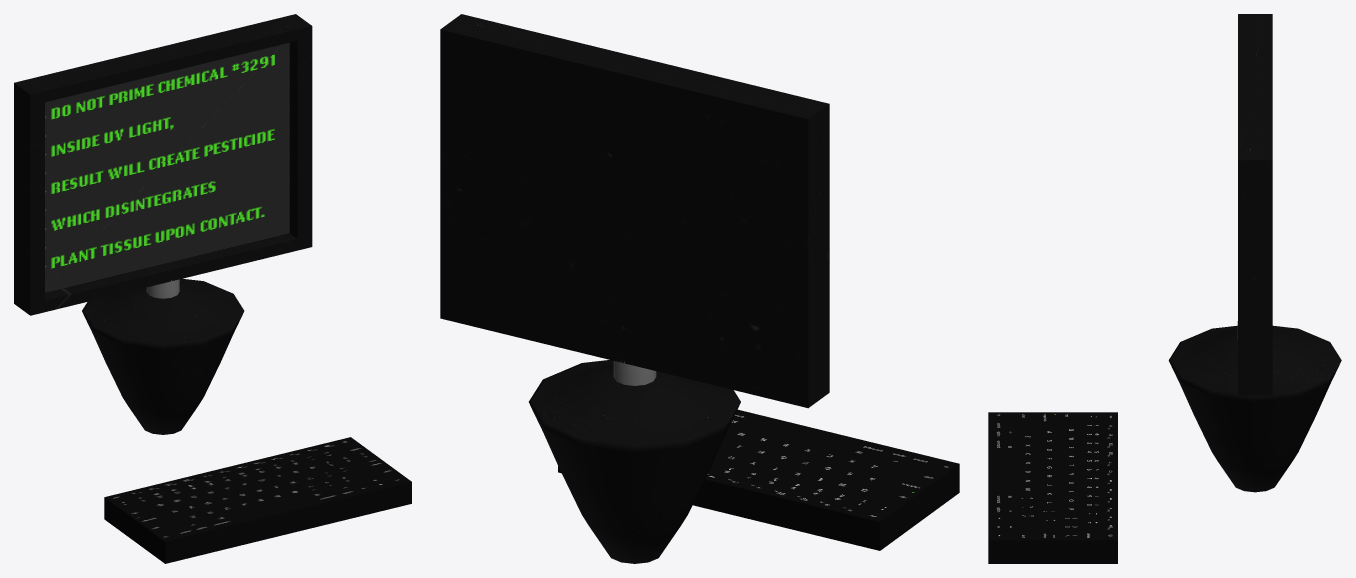
Rendered from Computer.glb.
3 renders of one model, left to right at view 1: azimuth 30°, elevation 25°; view 2: azimuth 150°, elevation 25°; view 3: azimuth 270°, elevation 25°, orthographic. The views are drawn at different scales.
Visible parts, largest first — view 1: Screen, Monitor, Keyboard, Computer; view 2: Monitor, Computer, Keyboard, Arm; view 3: Keyboard, Computer, Monitor.
Boxes of the visible parts, x1,y1,x2,y2 form: Screen: [45, 43, 289, 292]; Monitor: [14, 14, 312, 315]; Keyboard: [104, 437, 411, 563]; Computer: [82, 278, 244, 434]; Monitor: [440, 14, 829, 408]; Computer: [529, 360, 740, 563]; Keyboard: [558, 409, 959, 550]; Arm: [613, 361, 656, 385]; Keyboard: [988, 412, 1117, 563]; Computer: [1168, 325, 1341, 492]; Monitor: [1238, 14, 1272, 395].
Size of the model in its own units: 4 by 5.26 by 4.08.
4 materials, 3 textured.
